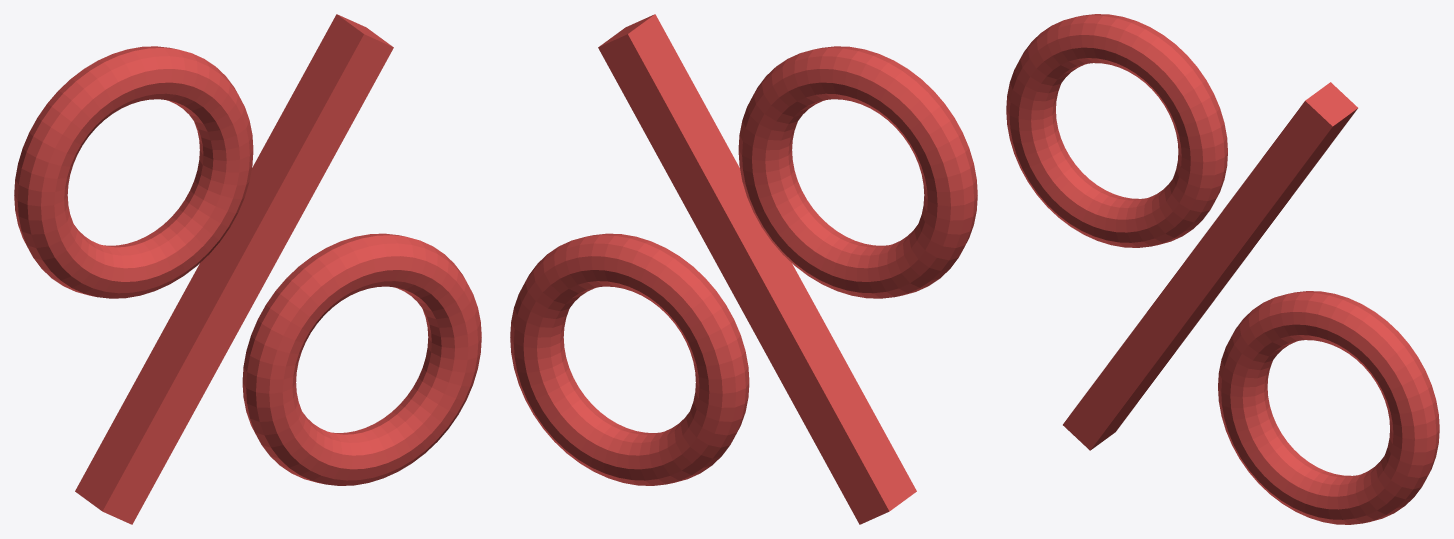
File: percent.obj
The picture shows the model from 3 angles, left to right: view 1: azimuth 30°, elevation 25°; view 2: azimuth 150°, elevation 25°; view 3: azimuth 330°, elevation 25°; orthographic projection. The views are drawn at different scales.
Parts seen in each view (by area): view 1: 立方体; view 2: 立方体; view 3: 立方体.
Boxes of the visible parts, <box> form: 立方体: <box>14,14,481,524</box>; 立方体: <box>510,14,977,524</box>; 立方体: <box>1006,14,1439,524</box>.
Bounding box in the file's own units: 1.94 × 1.96 × 0.2013.
